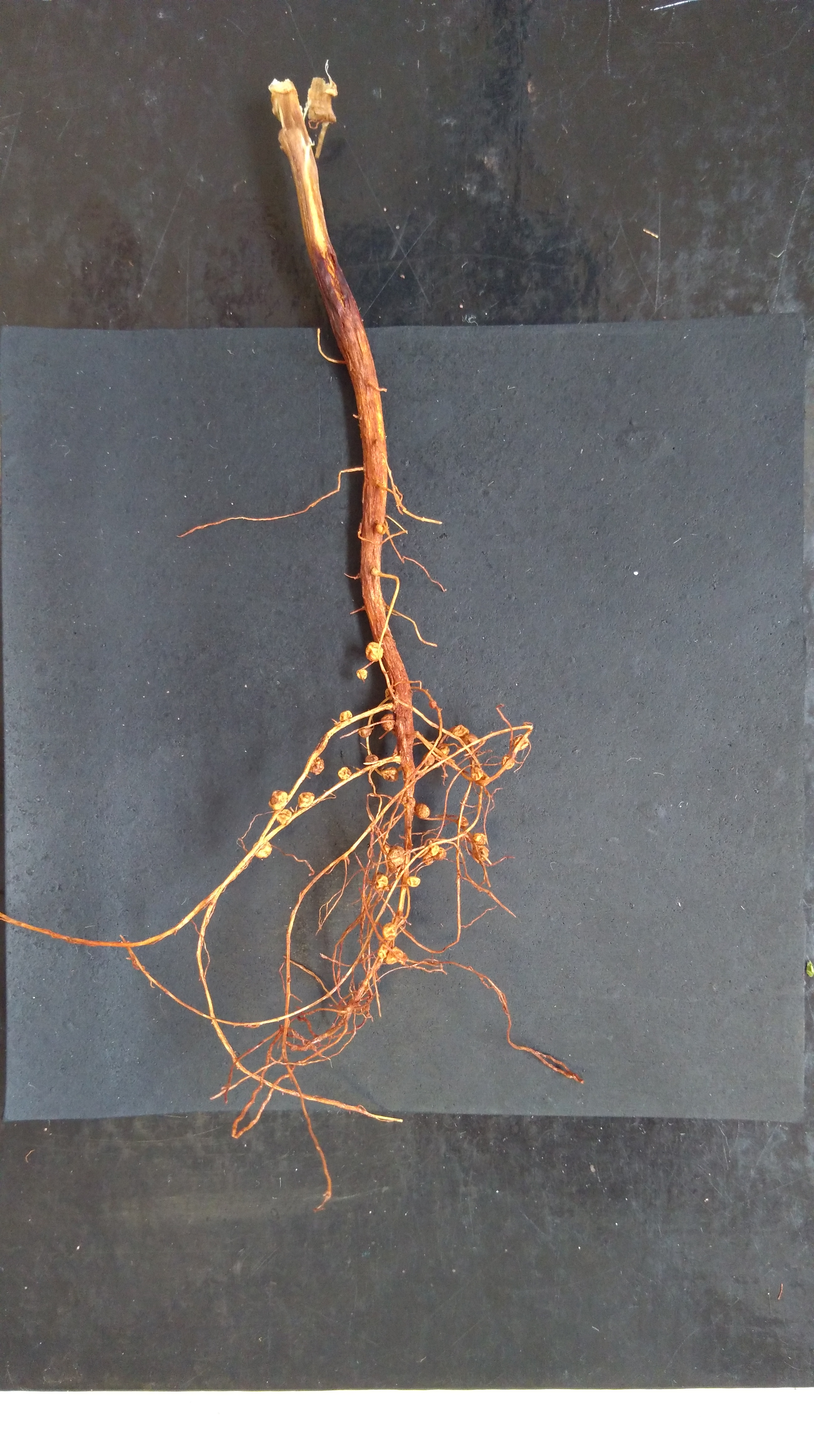nodule: (382, 843, 406, 872), (466, 844, 493, 864), (251, 839, 274, 860), (385, 946, 409, 966), (364, 641, 385, 663), (268, 789, 289, 811), (306, 756, 327, 777), (414, 801, 433, 822), (380, 765, 400, 784), (295, 791, 316, 809), (381, 922, 398, 941), (451, 722, 470, 738), (276, 809, 292, 827), (380, 712, 395, 731), (512, 734, 529, 750), (336, 766, 354, 781), (374, 873, 390, 889), (432, 846, 447, 862), (472, 831, 488, 846), (421, 751, 435, 767), (356, 727, 373, 740), (470, 766, 484, 781), (405, 875, 421, 888), (363, 753, 380, 765), (456, 815, 470, 829), (502, 755, 515, 770), (338, 710, 354, 722), (428, 843, 441, 857), (464, 733, 478, 746), (378, 943, 388, 960), (356, 668, 369, 681), (383, 688, 395, 701), (423, 852, 434, 866), (438, 745, 451, 756), (428, 700, 437, 709), (375, 524, 383, 533)
